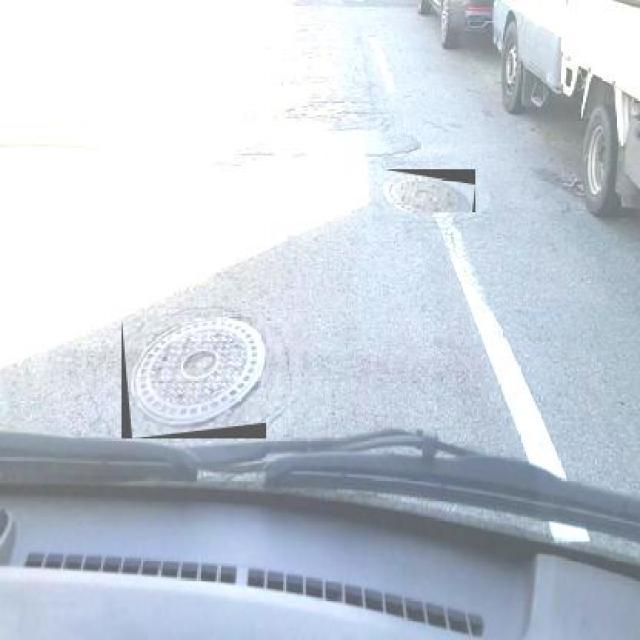Manhole: (122, 316, 267, 438), (382, 169, 476, 212)
